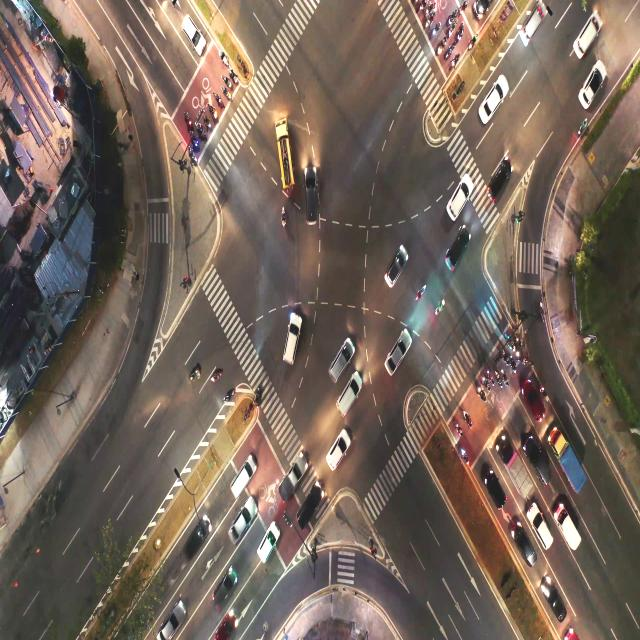bus: (278, 145, 290, 170)
car: (302, 192, 320, 227), (484, 87, 506, 114), (389, 344, 407, 369), (162, 613, 178, 638), (446, 193, 466, 213), (576, 30, 592, 55), (230, 475, 246, 497), (284, 335, 297, 361), (388, 259, 404, 280), (230, 520, 248, 536), (586, 77, 597, 103), (524, 18, 539, 36), (517, 532, 529, 554), (332, 444, 345, 464), (187, 23, 199, 44), (335, 355, 345, 379), (451, 245, 461, 269), (219, 620, 233, 636), (259, 541, 272, 558), (494, 170, 504, 192), (528, 392, 538, 414), (187, 535, 200, 551), (304, 499, 313, 522), (488, 481, 498, 501), (337, 398, 352, 410), (550, 594, 559, 612), (217, 584, 227, 600), (538, 520, 546, 536), (536, 455, 542, 472)
motorcycle: (434, 300, 444, 320), (416, 284, 425, 302), (280, 206, 287, 223), (190, 368, 201, 378), (226, 390, 235, 402), (254, 388, 262, 400), (212, 370, 221, 380), (470, 36, 477, 48), (455, 422, 461, 435), (189, 151, 195, 162), (539, 301, 544, 314), (452, 56, 459, 65), (220, 52, 226, 62), (462, 408, 467, 420), (482, 375, 488, 385), (494, 370, 500, 380), (457, 29, 462, 41), (476, 386, 482, 395), (417, 4, 423, 13), (211, 108, 216, 118), (541, 386, 546, 396), (509, 338, 514, 348), (425, 8, 432, 15), (582, 120, 586, 132), (186, 114, 190, 126), (192, 138, 198, 146), (223, 77, 229, 85), (516, 336, 520, 348), (437, 44, 441, 56), (448, 28, 454, 36), (231, 73, 236, 82), (462, 449, 467, 458), (445, 50, 450, 59), (460, 4, 465, 13), (487, 370, 491, 380), (449, 14, 453, 24), (223, 90, 229, 96), (510, 356, 513, 368), (432, 28, 437, 35), (501, 369, 505, 377), (525, 356, 529, 364), (426, 20, 430, 28), (204, 117, 208, 124), (517, 353, 521, 360), (503, 352, 506, 361), (217, 98, 221, 104), (200, 129, 203, 135)
truck: (563, 447, 574, 478), (509, 447, 520, 477), (284, 473, 295, 490), (564, 522, 574, 538)
